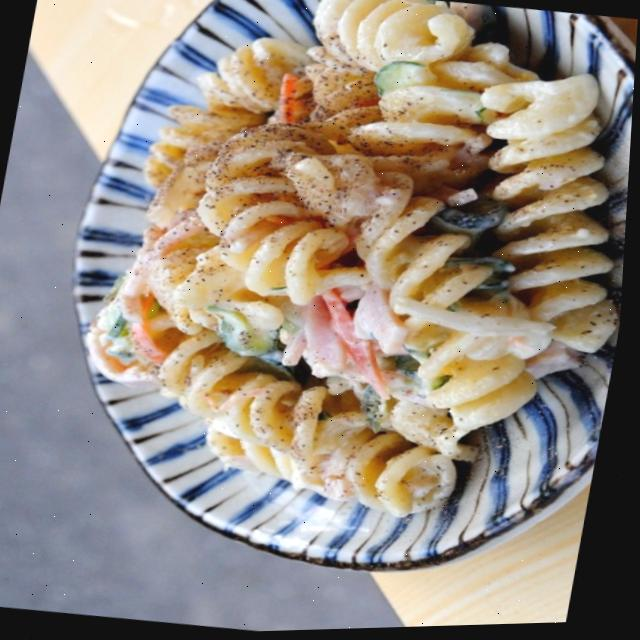蔬菜料理: (1, 130, 536, 612)
